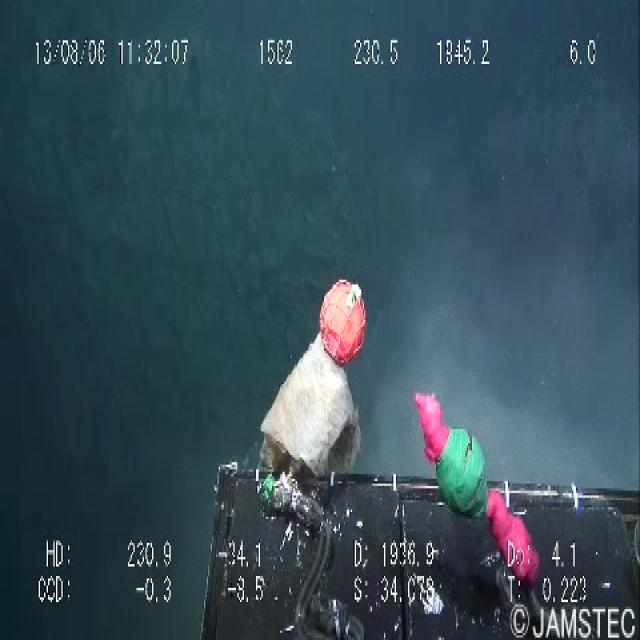plastic: (240, 324, 380, 472)
